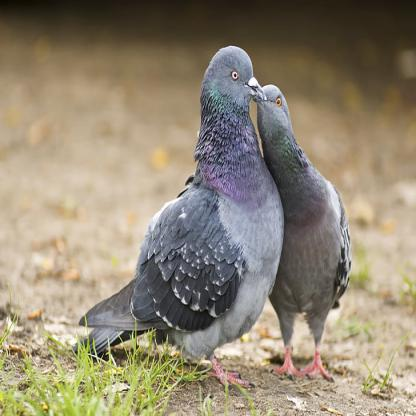Rock Pigeon: (103, 47, 356, 384)
